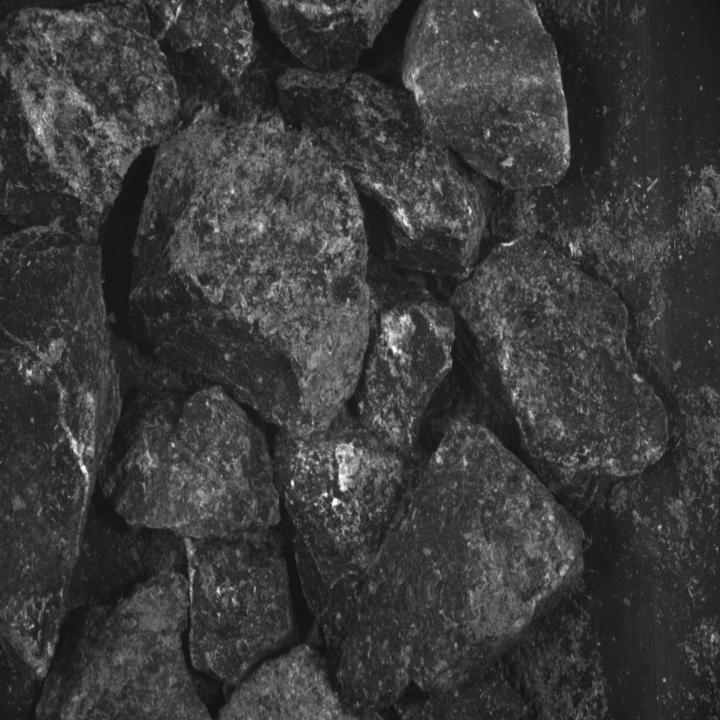stone: (126, 48, 369, 437), (294, 412, 587, 720), (447, 235, 670, 517), (1, 226, 120, 684), (271, 65, 494, 299), (3, 3, 184, 235), (403, 0, 573, 190), (98, 384, 281, 540), (271, 414, 430, 589), (36, 568, 213, 720), (354, 255, 454, 452), (184, 531, 293, 684), (217, 645, 388, 720), (264, 0, 404, 76), (146, 1, 262, 90)
